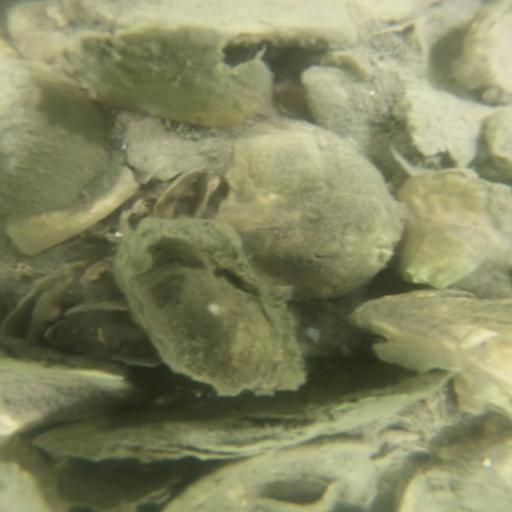Oyster-Closed: (214, 114, 409, 308), (23, 22, 280, 133), (1, 56, 112, 220), (1, 330, 153, 442), (1, 159, 146, 262), (396, 163, 511, 290), (392, 424, 509, 510), (442, 1, 512, 105)
Oyster-Open: (108, 217, 303, 395)
